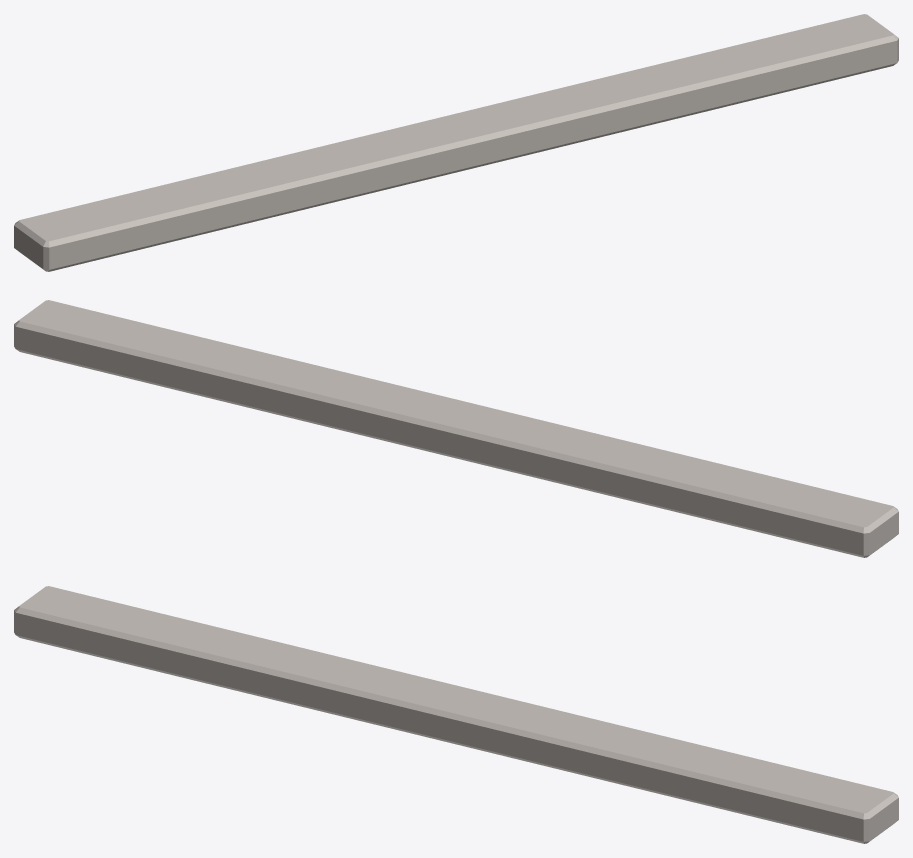
File: mobile.glb
The picture shows the model from 3 angles, top to bottom: view 1: azimuth 30°, elevation 25°; view 2: azimuth 150°, elevation 25°; view 3: azimuth 330°, elevation 25°; orthographic projection.
Size of the model in its own units: 2.64 by 0.09 by 0.18.
1 material, 1 textured.
